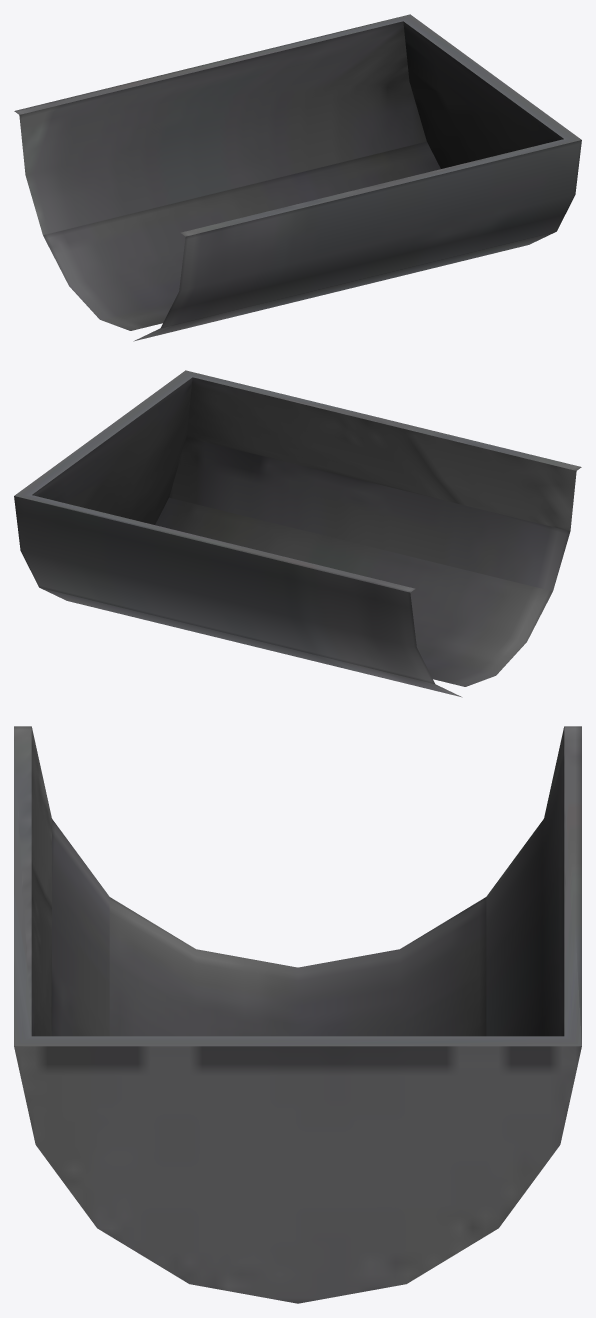
The picture shows the model from 3 angles, top to bottom: view 1: azimuth 30°, elevation 25°; view 2: azimuth 150°, elevation 25°; view 3: azimuth 270°, elevation 25°; orthographic projection. The views are drawn at different scales.
Visible parts, largest first — view 1: body0_model0_lod0_mesh0; view 2: body0_model0_lod0_mesh0; view 3: body0_model0_lod0_mesh0.
Part boxes in pixels (x1=…): body0_model0_lod0_mesh0: x1=14, y1=14, x2=581, y2=341; body0_model0_lod0_mesh0: x1=14, y1=370, x2=581, y2=697; body0_model0_lod0_mesh0: x1=14, y1=726, x2=581, y2=1303.
Size of the model in its own units: 32 by 12 by 24.
Materials: 1 (1 with a texture image).
